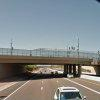Bridge: (6, 39, 93, 74)
